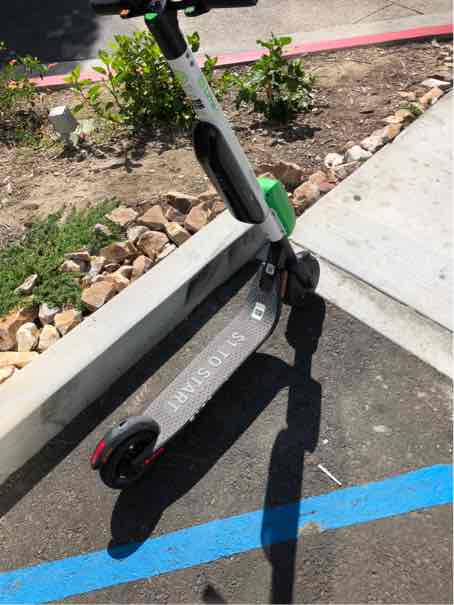scooter: (79, 2, 305, 494)
